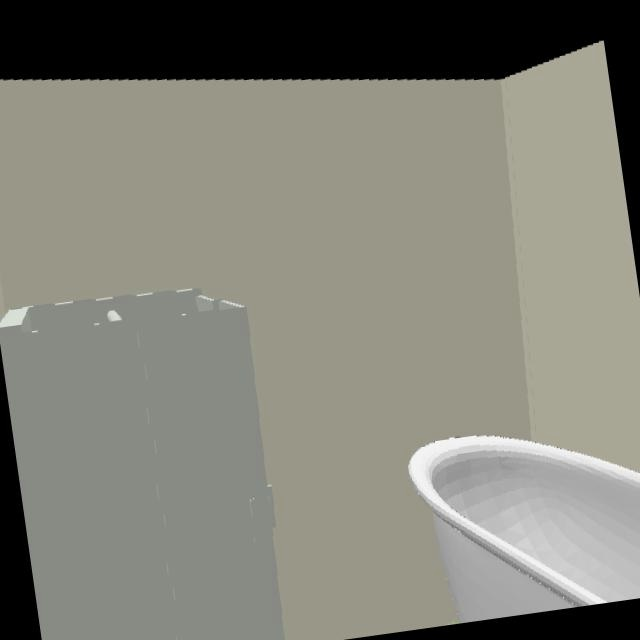bathtube: (407, 436, 640, 624)
shower: (0, 289, 287, 640)
